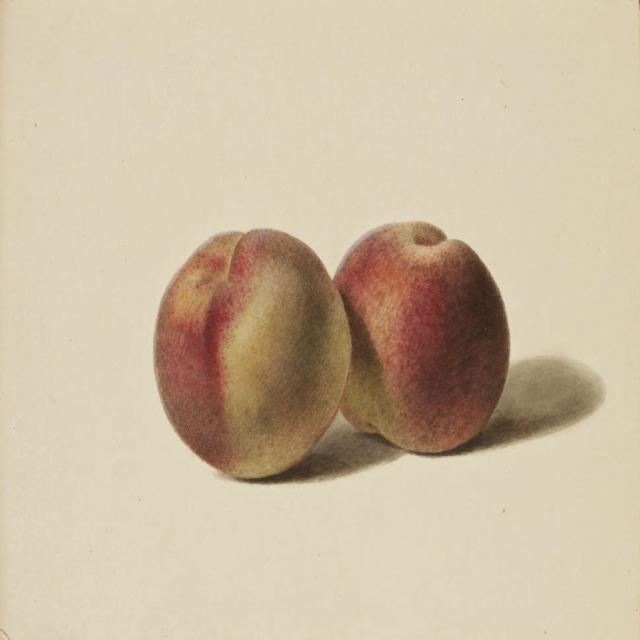Peach: (153, 225, 354, 481), (331, 217, 510, 458)
